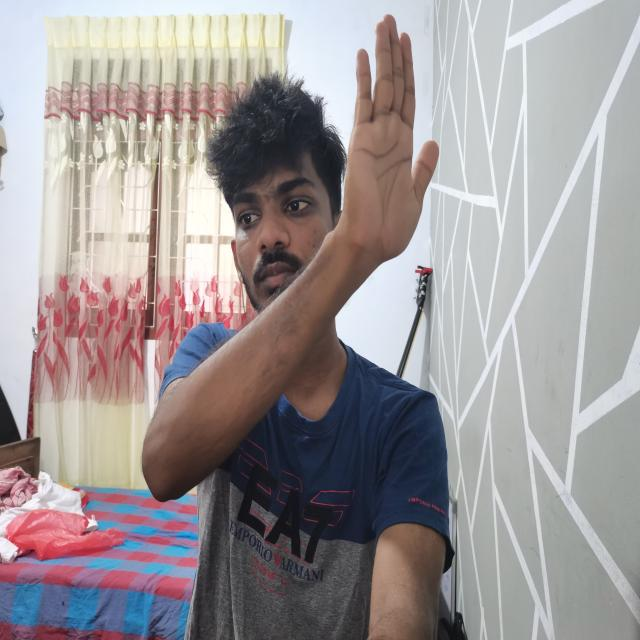Hello: (343, 8, 444, 274)
